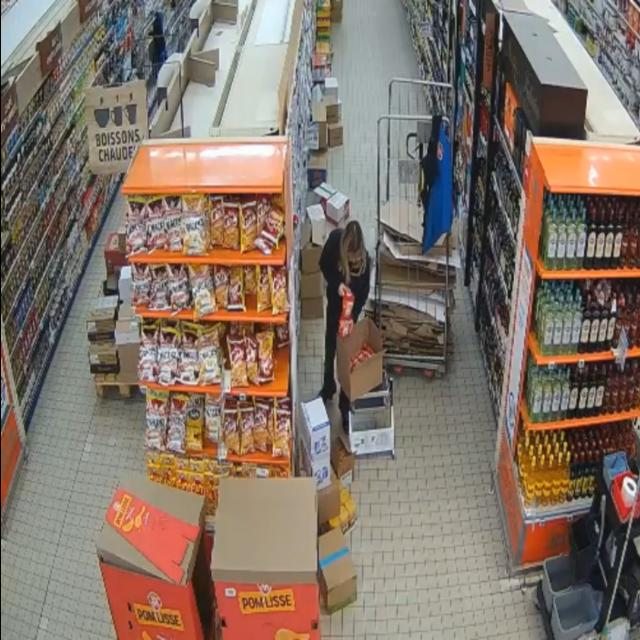article: (338, 287, 354, 338)
hands: (339, 284, 349, 296)
person: (320, 221, 370, 401)
